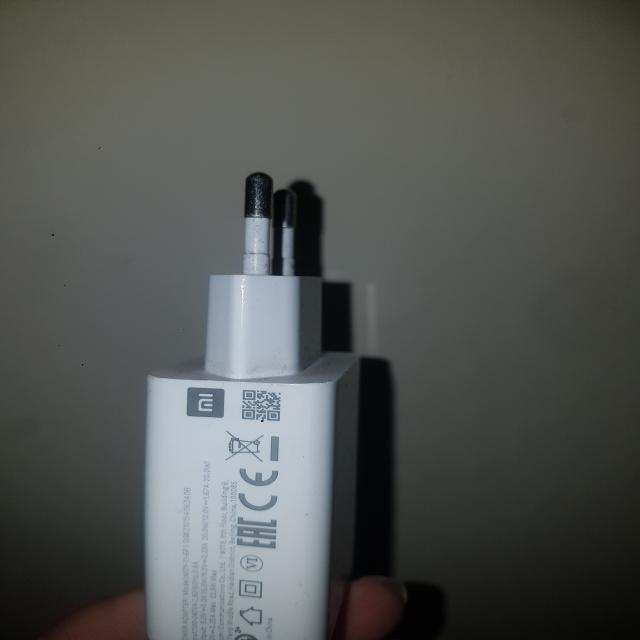electronic: (133, 137, 410, 640)
